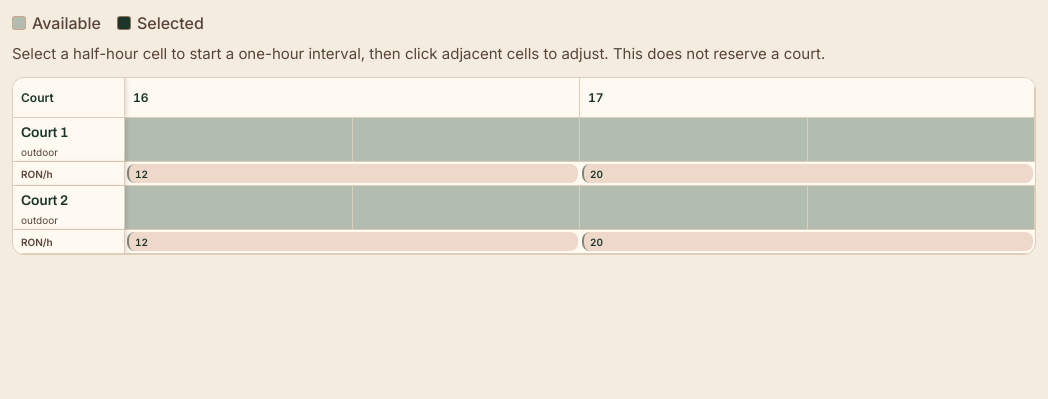
Test: shows one shared court matrix, hourly prices, and one active selection
Check: the button "Continue" is not shown
Check: the number of tables is 1, box [12, 77, 1036, 255]
Click the button named "Court 1 2026-10-01 16:00–16:30". click: (239, 140)
box: [125, 118, 352, 161]
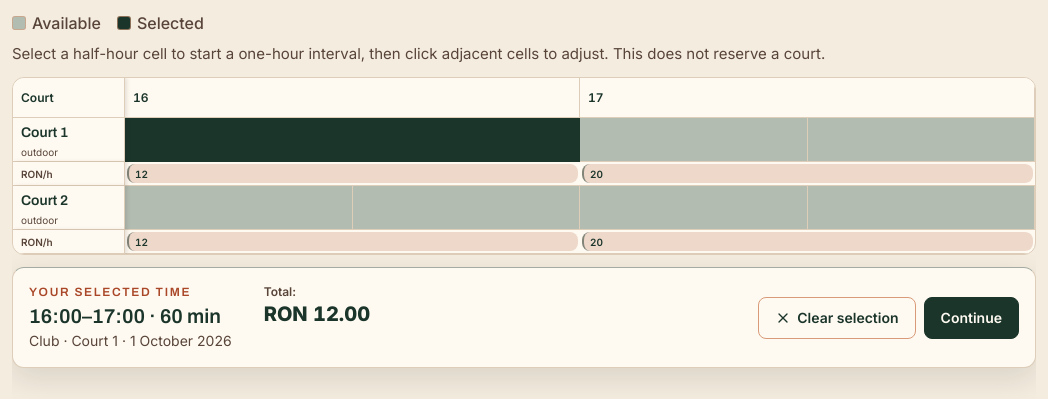
Check: the button "Continue" is enabled, box [924, 296, 1019, 338]
Check: the text "16:00–17:00 · 60 min" is shown, box [29, 304, 232, 329]
Click the button named "Court 1 2026-10-01 17:00–17:30". click: (694, 140)
box: [580, 118, 808, 161]
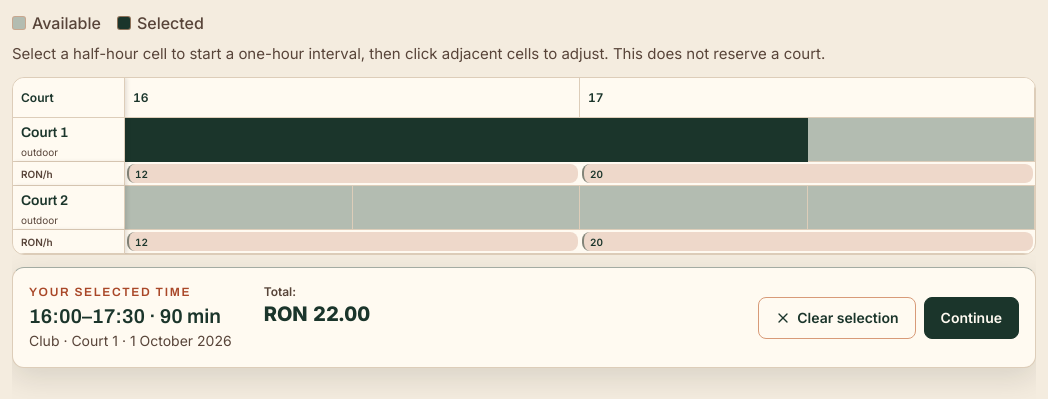
Check: the text "16:00–17:30 · 90 min" is shown, box [29, 304, 232, 329]
Check: the text "Total: RON 22.00" is shown, box [264, 284, 370, 328]
Click the button named "Court 2 2026-10-01 16:00–16:30". click: (239, 208)
box: [125, 186, 352, 229]
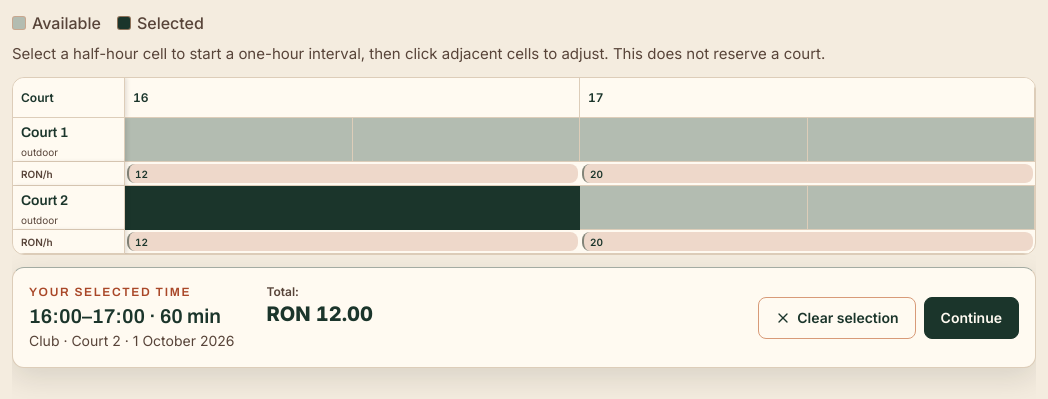
Check: the text "Club · Court 2 · 1 October 2026" is shown, box [29, 331, 234, 351]
Check: the text "16:00–17:00 · 60 min" is shown, box [29, 304, 234, 329]
